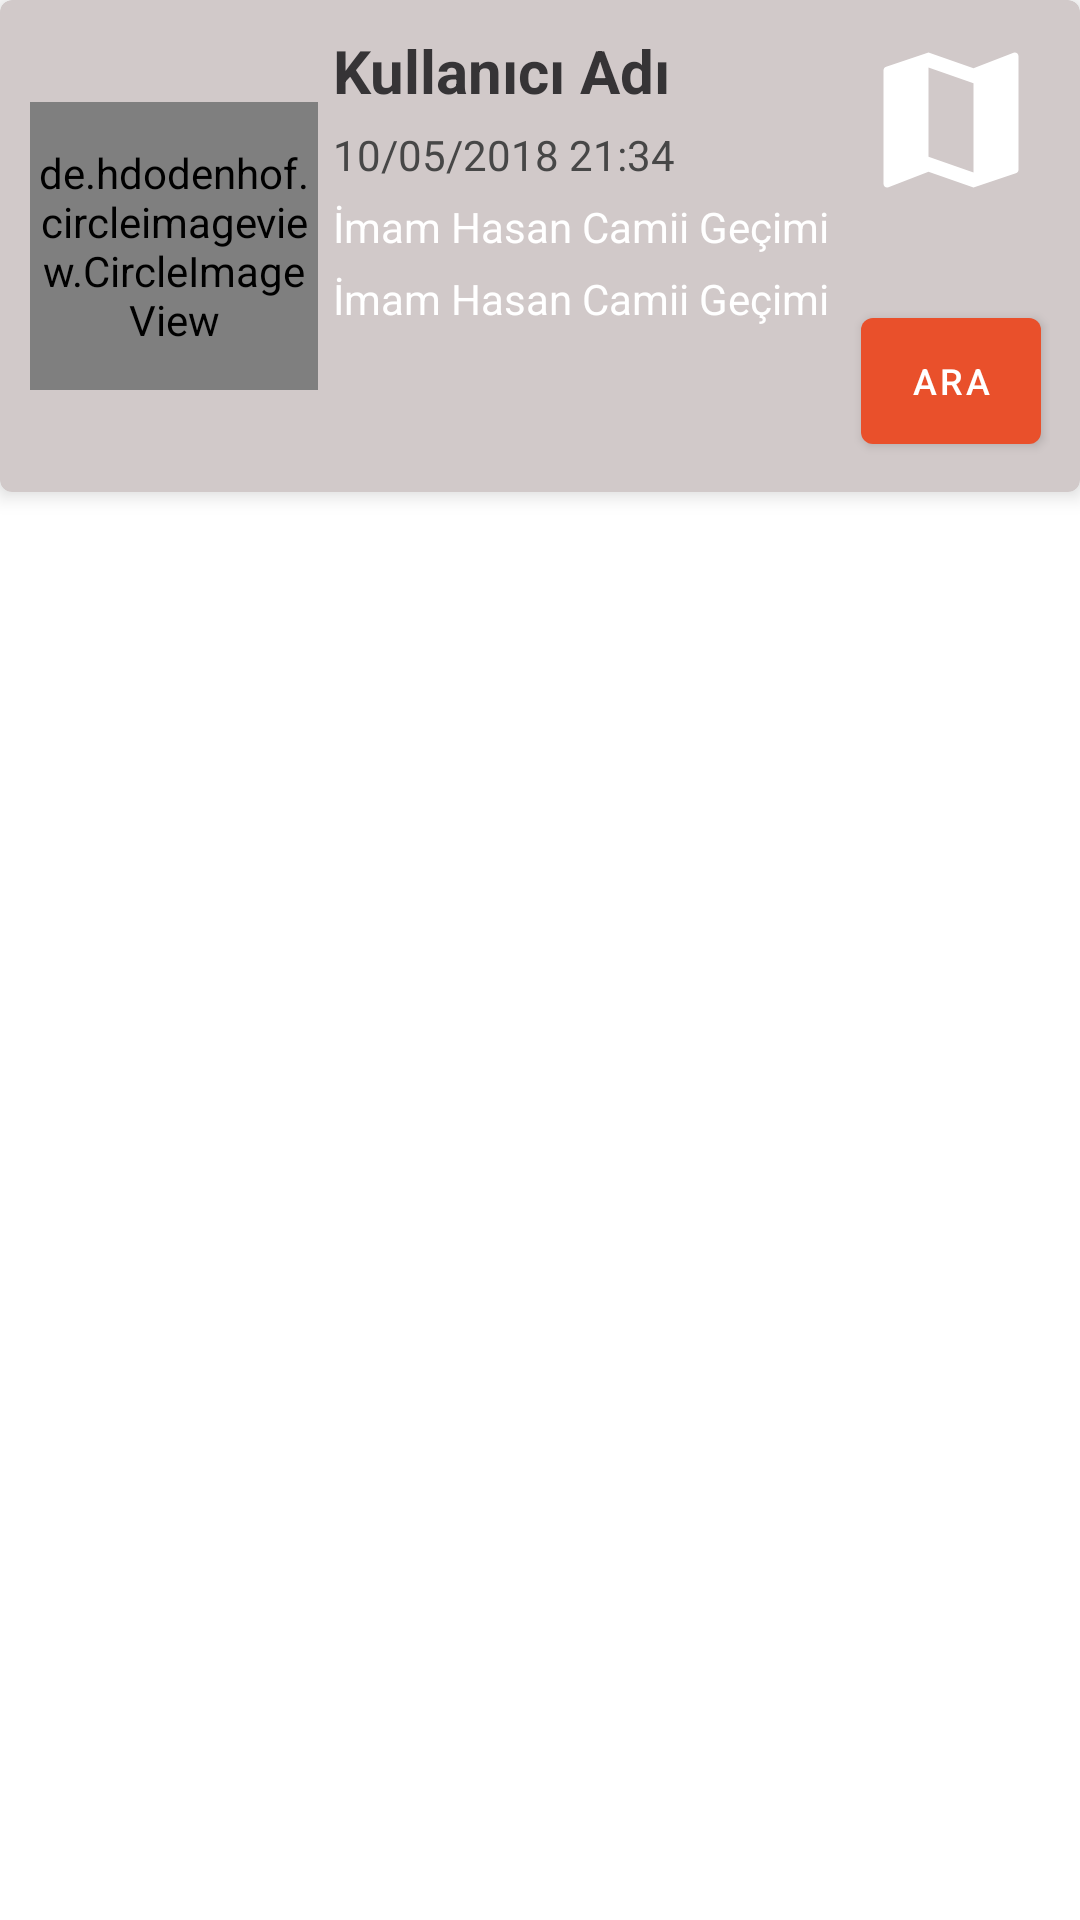

Named icons in this screenshot (1080 × 1920) and their centers, point (x, y):
map: point (951, 120)
